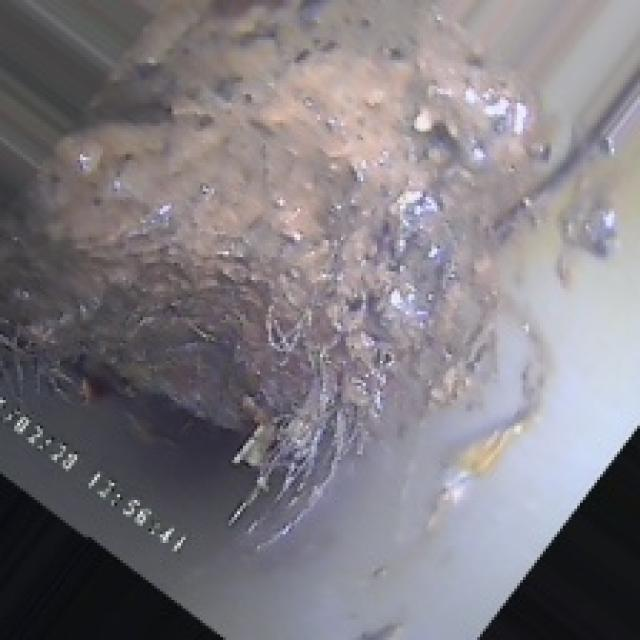sluge accumulation: (60, 83, 566, 480)
